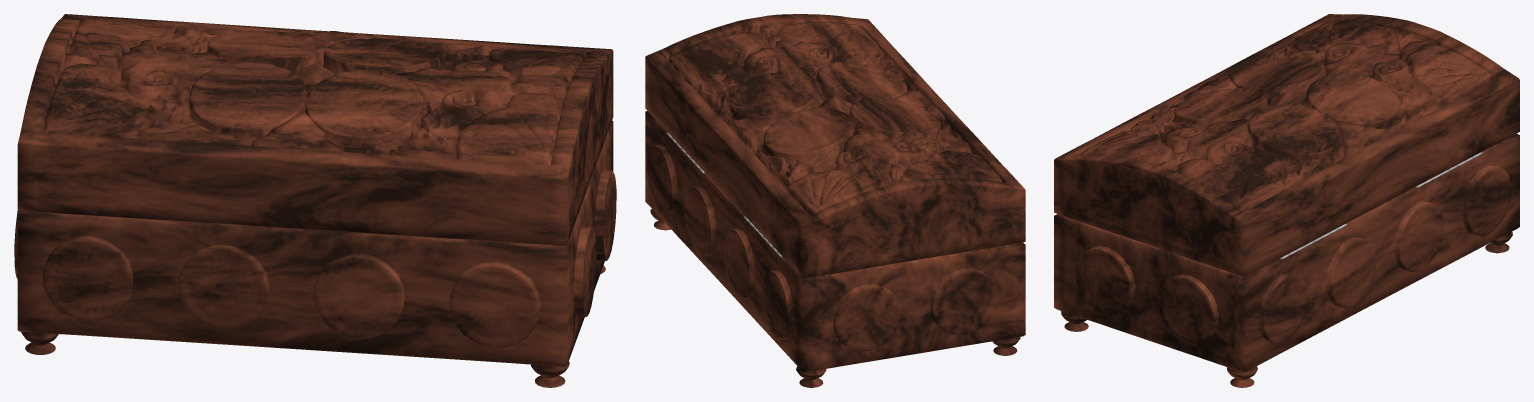
3 views of the same model, side by side, from view 1: azimuth 30°, elevation 25°; view 2: azimuth 150°, elevation 25°; view 3: azimuth 270°, elevation 25° (orthographic). The views are drawn at different scales.
Visible parts, largest first — view 1: Casket_top_4, Casket_bot_1; view 2: Casket_top_4, Casket_bot_1; view 3: Casket_top_4, Casket_bot_1.
Boxes of the visible parts, left/top/right/bottom form: Casket_top_4: left=17, top=14, right=613, bottom=246; Casket_bot_1: left=14, top=120, right=616, bottom=387; Casket_top_4: left=645, top=14, right=1025, bottom=278; Casket_bot_1: left=645, top=111, right=1025, bottom=387; Casket_top_4: left=1054, top=14, right=1519, bottom=276; Casket_bot_1: left=1054, top=133, right=1519, bottom=387.
Bounding box in the file's own units: 532 × 236 × 499.
Materials: 1 (1 with a texture image).
